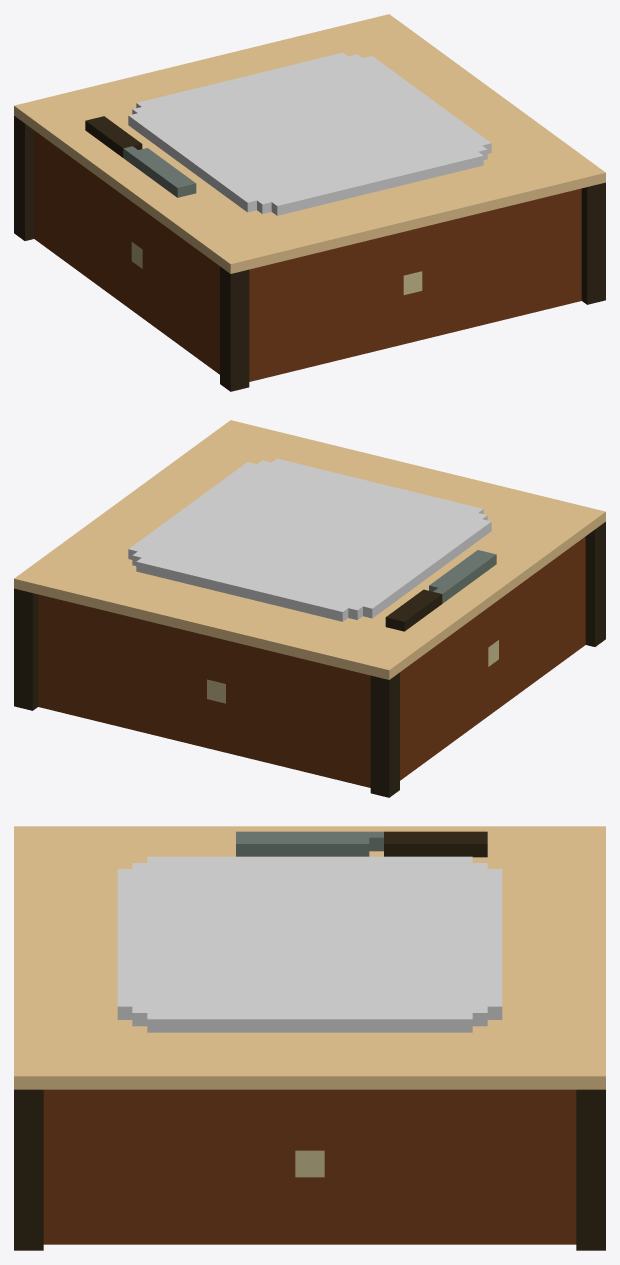
File: CuttingTableSoft.obj
The picture shows the model from 3 angles, top to bottom: view 1: azimuth 30°, elevation 25°; view 2: azimuth 150°, elevation 25°; view 3: azimuth 270°, elevation 25°; orthographic projection. The views are drawn at different scales.
Size of the model in its own units: 4 by 1.4 by 4.
1 material, 1 textured.
